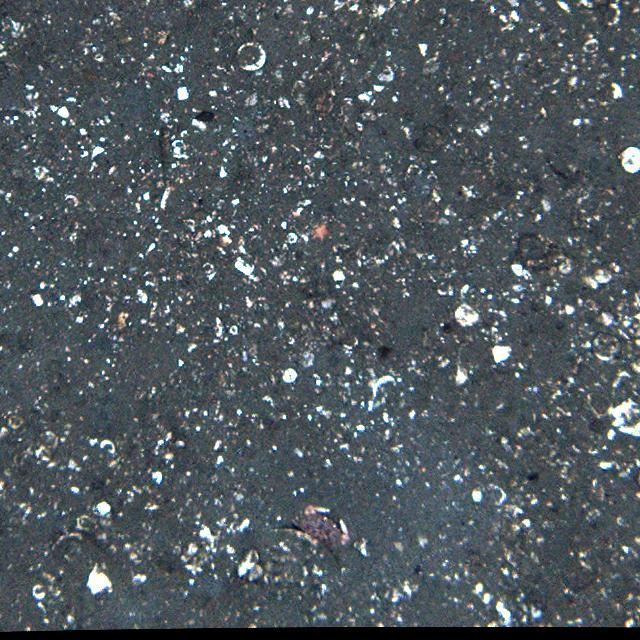crab: (294, 498, 350, 554)
